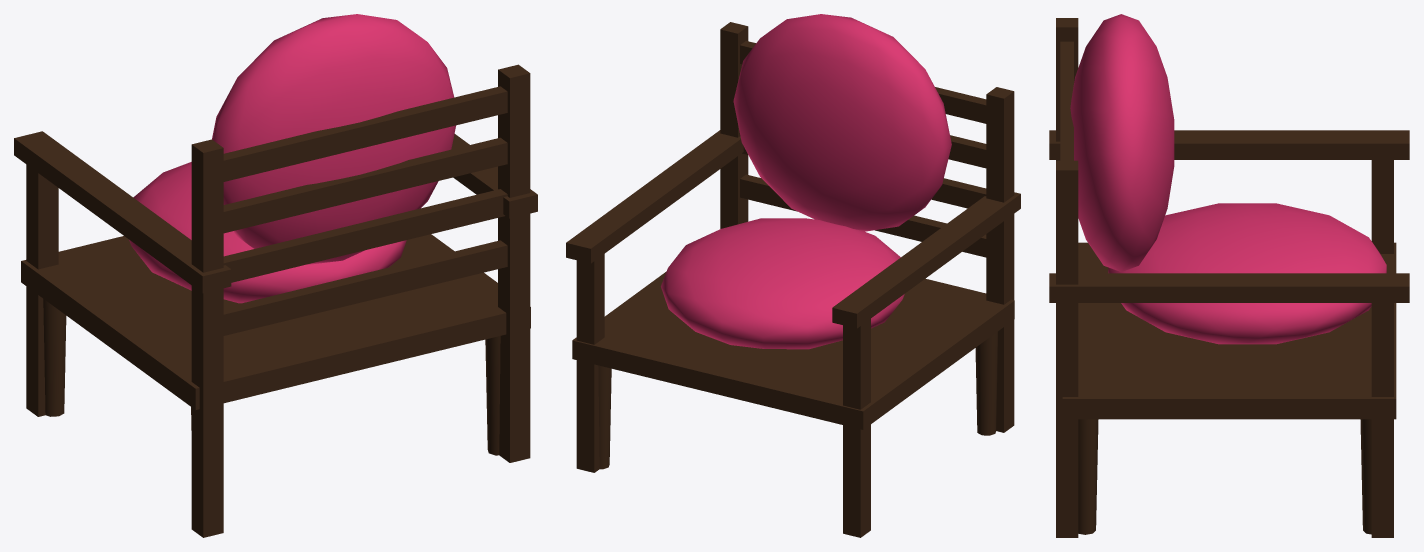
Rendered from armchair-pink.obj.
3 renders of one model, left to right at view 1: azimuth 30°, elevation 25°; view 2: azimuth 150°, elevation 25°; view 3: azimuth 270°, elevation 25°, orthographic. The views are drawn at different scales.
Parts seen in each view (by area): view 1: armchair-pink_4, armchair-pink_16, armchair-pink_11, armchair-pink_14, armchair-pink_9, armchair-pink_5, armchair-pink_8, armchair-pink_7, armchair-pink_6, armchair-pink_15, armchair-pink_10, armchair-pink_0 (+2 smaller); view 2: armchair-pink_16, armchair-pink_4, armchair-pink_15, armchair-pink_11, armchair-pink_9, armchair-pink_12, armchair-pink_10, armchair-pink_13, armchair-pink_14, armchair-pink_5, armchair-pink_2, armchair-pink_8 (+3 smaller); view 3: armchair-pink_4, armchair-pink_15, armchair-pink_16, armchair-pink_12, armchair-pink_14, armchair-pink_9, armchair-pink_13, armchair-pink_3, armchair-pink_10, armchair-pink_8, armchair-pink_11, armchair-pink_1.
Part boxes in pixels (x1,y1,x2,y2): armchair-pink_4: (21, 234, 530, 409); armchair-pink_16: (212, 14, 455, 264); armchair-pink_11: (191, 139, 223, 537); armchair-pink_14: (498, 64, 530, 462); armchair-pink_9: (14, 131, 231, 293); armchair-pink_5: (223, 240, 507, 335); armchair-pink_8: (223, 86, 507, 181); armchair-pink_7: (223, 137, 507, 233); armchair-pink_6: (223, 189, 507, 282); armchair-pink_15: (129, 162, 406, 303); armchair-pink_10: (26, 164, 58, 416); armchair-pink_0: (43, 299, 66, 416); armchair-pink_16: (733, 14, 951, 231); armchair-pink_4: (572, 271, 1014, 429); armchair-pink_15: (661, 218, 904, 349); armchair-pink_11: (986, 87, 1014, 432); armchair-pink_9: (832, 192, 1020, 328); armchair-pink_12: (566, 130, 743, 263); armchair-pink_10: (843, 319, 870, 537); armchair-pink_13: (576, 254, 604, 472); armchair-pink_14: (720, 22, 748, 228); armchair-pink_5: (740, 174, 986, 257); armchair-pink_2: (975, 331, 997, 435); armchair-pink_8: (740, 41, 986, 123); armchair-pink_4: (1062, 242, 1396, 419); armchair-pink_15: (1108, 203, 1386, 344); armchair-pink_16: (1070, 14, 1174, 271); armchair-pink_12: (1049, 273, 1409, 302); armchair-pink_14: (1056, 160, 1078, 537); armchair-pink_9: (1049, 130, 1409, 159); armchair-pink_13: (1371, 303, 1393, 537); armchair-pink_3: (1078, 419, 1098, 534); armchair-pink_10: (1371, 160, 1393, 253); armchair-pink_8: (1060, 41, 1073, 160); armchair-pink_11: (1056, 18, 1078, 160); armchair-pink_1: (1360, 419, 1371, 534).
Size of the model in its own units: 0.82 by 1.06 by 0.8.
